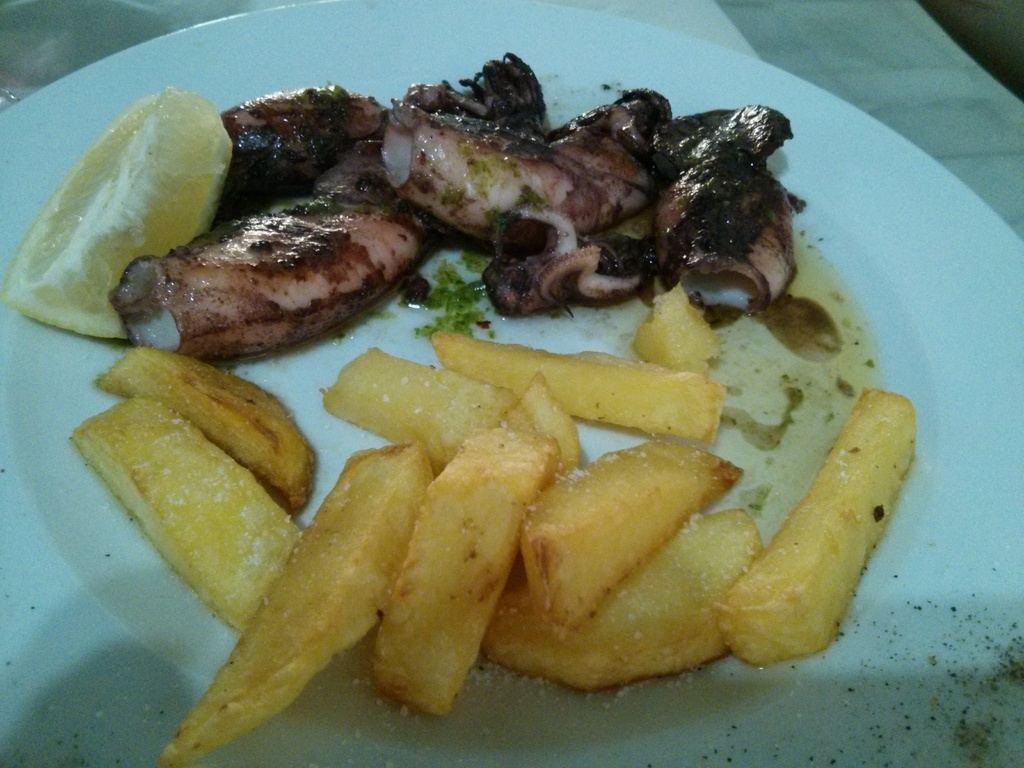French fries: (66, 285, 920, 767)
